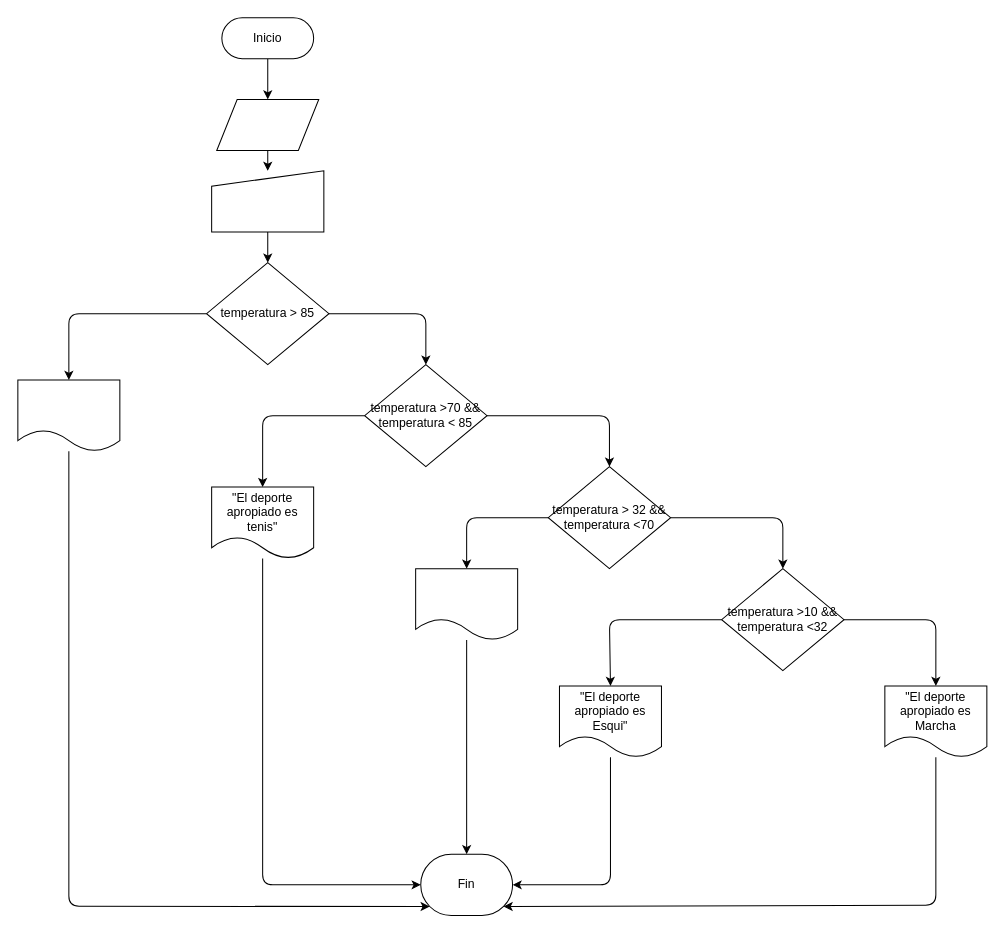
Image size: 1005x933. Some labels were removed from this diagram. The shapes that lost their labels are listed below. From the top down, each one's box as (x1, y1, x2, y2) in pixels, then its label:
(216, 98, 319, 150): temperatura
(211, 170, 324, 232): "Ingrese la temperatura en fahrenheit"
(17, 379, 120, 451): "El deporte apropiado es natacion"
(415, 568, 518, 640): "El deporte apropiado es golf
